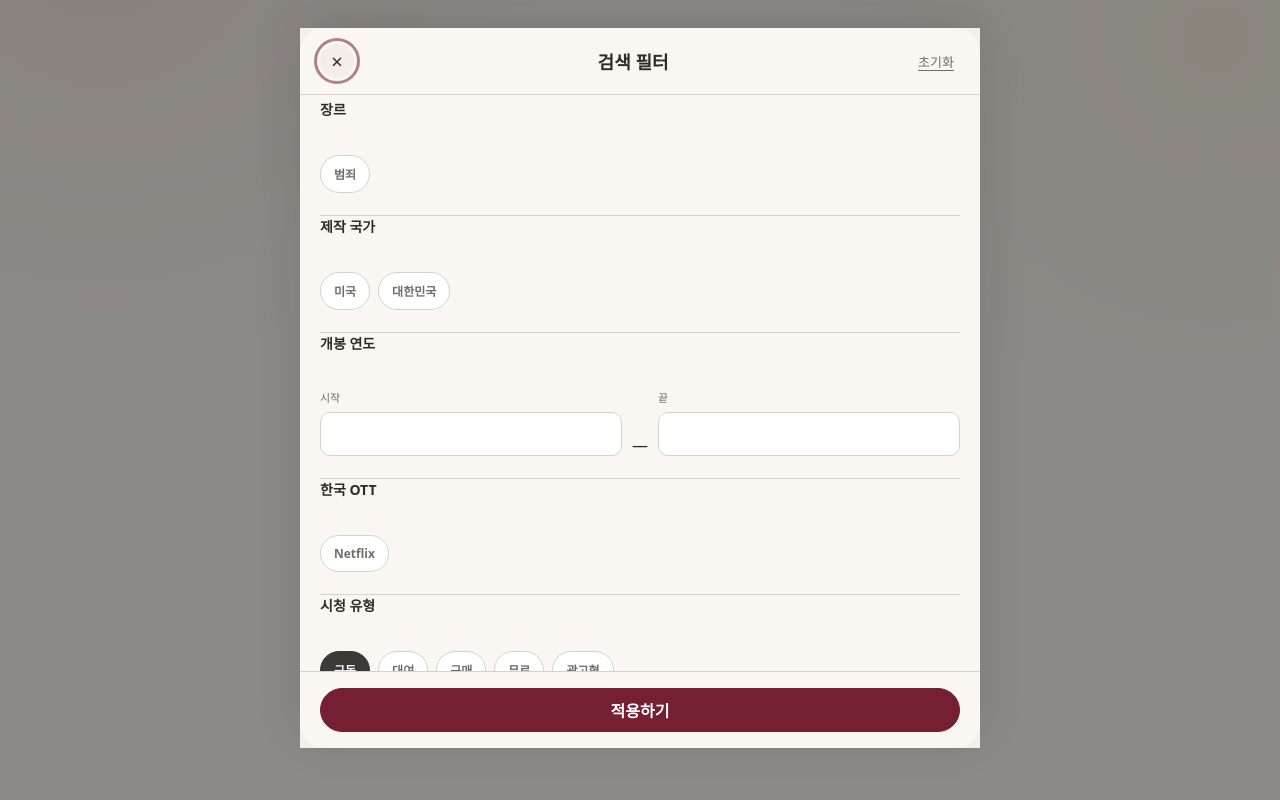
C0 Catalog frontend › 유효하지 않은 연도 범위는 필터 적용을 막고 field error를 표시한다
Expected: the text "범죄" is shown, [320,155,370,193]
Step 1. Type "2020" into the number field named "개봉 연도 시작" → (471, 434), box [320,412,622,456]
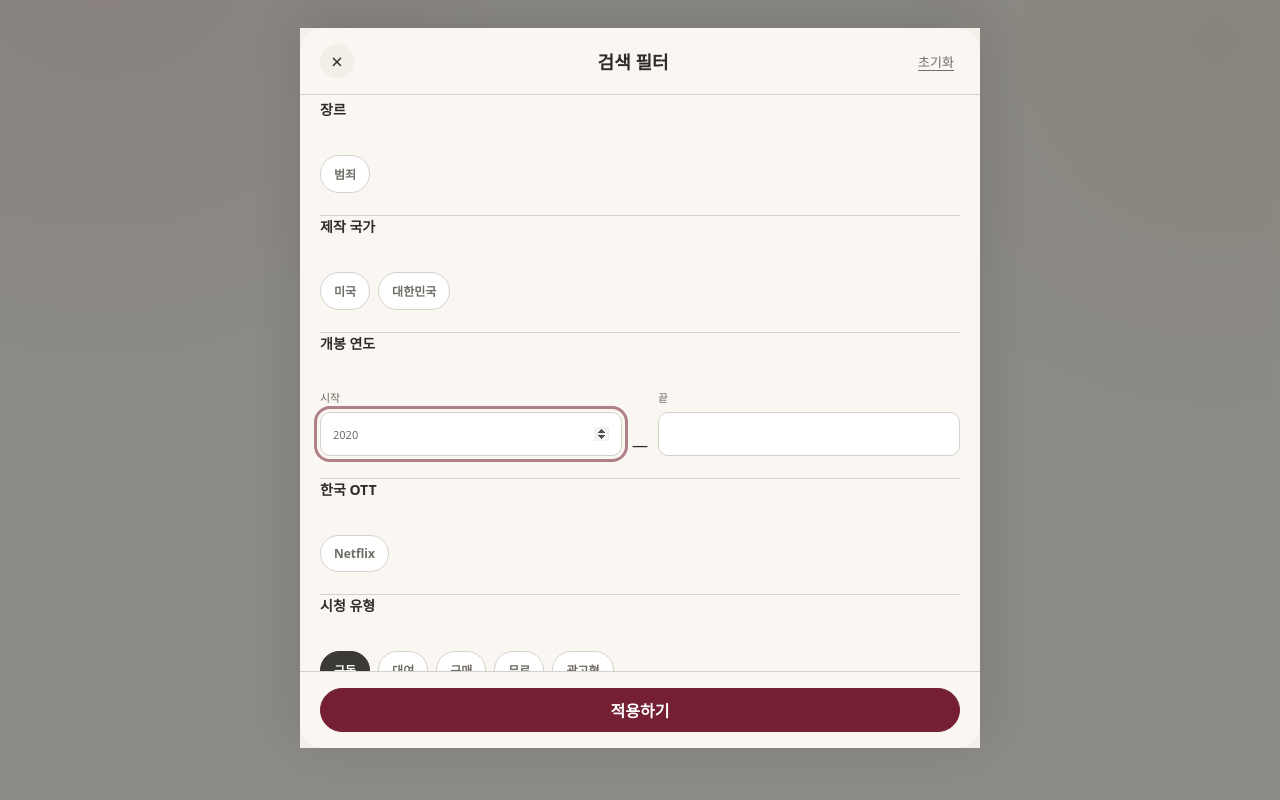
Step 2. Type "2010" into the number field named "개봉 연도 끝" → (809, 434), box [658,412,960,456]
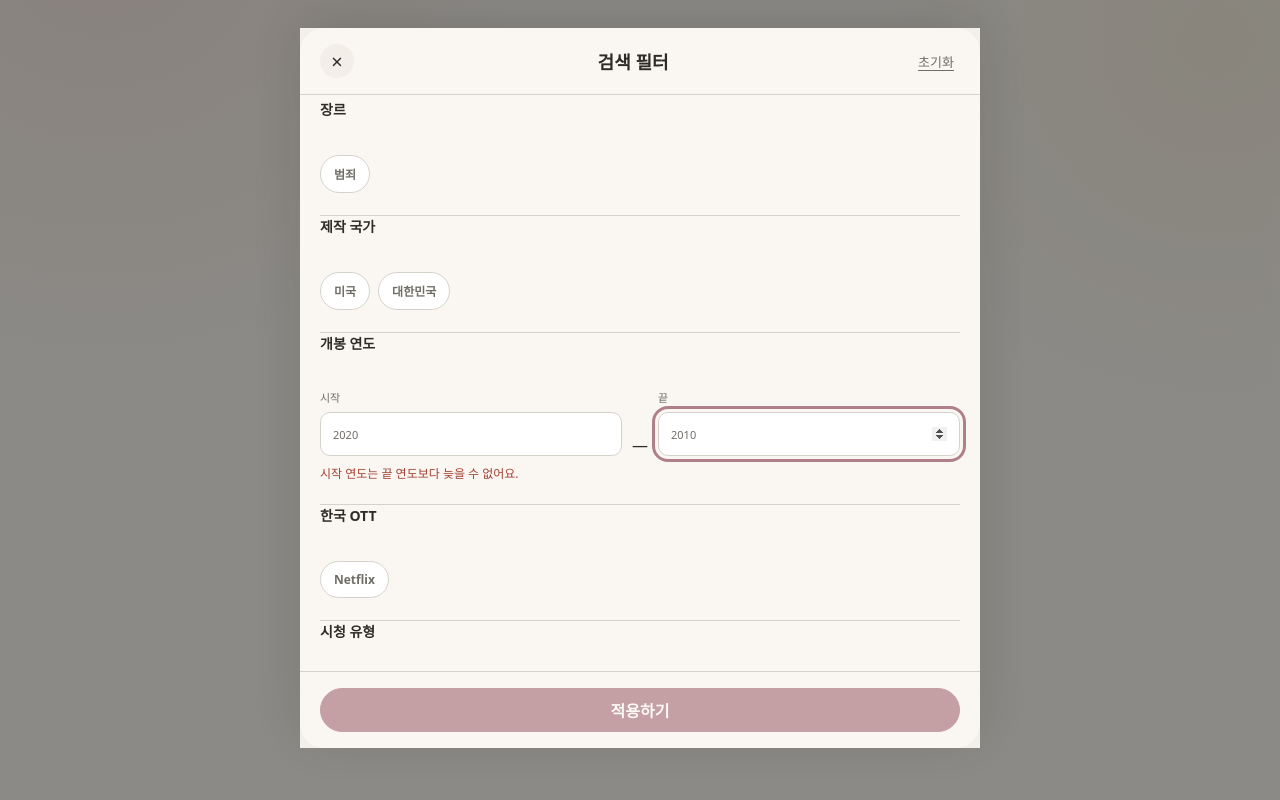
Expected: the text "시작 연도는 끝 연도보다 늦을 수 없어요." is shown, [320,465,519,482]
Expected: the button "적용하기" is disabled, [320,688,960,732]
